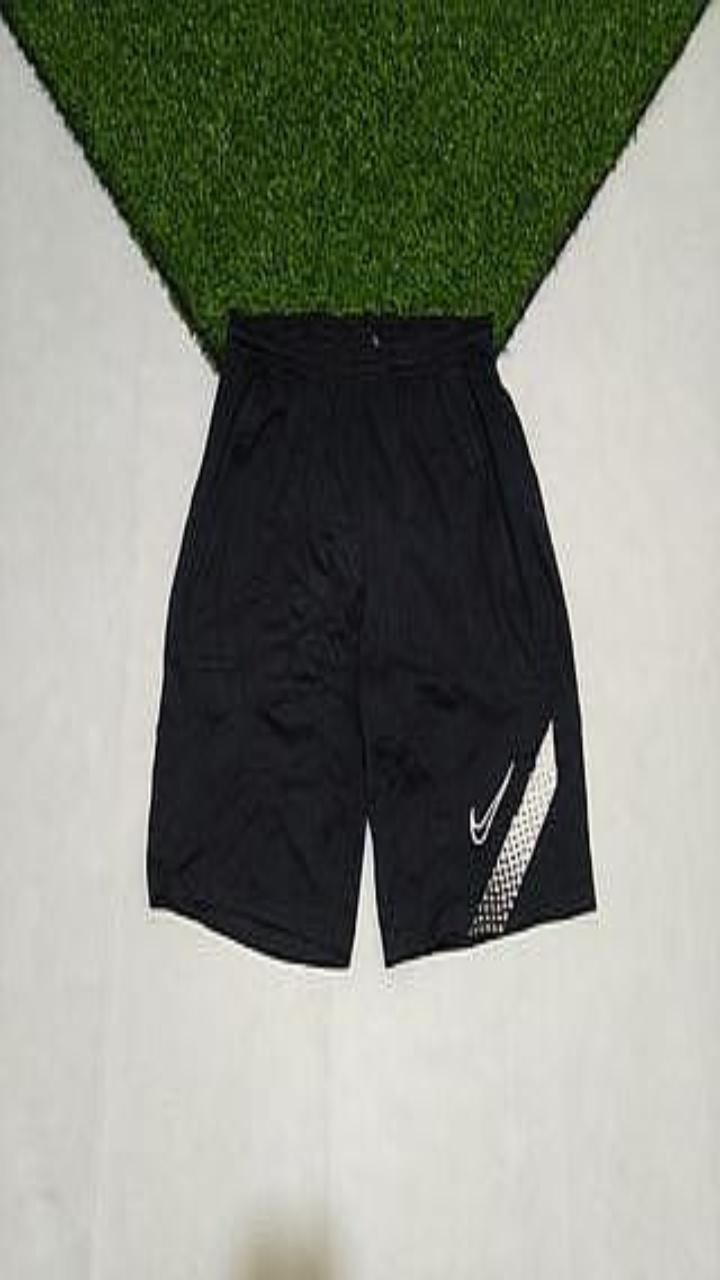Shorts: (147, 310, 595, 965)
